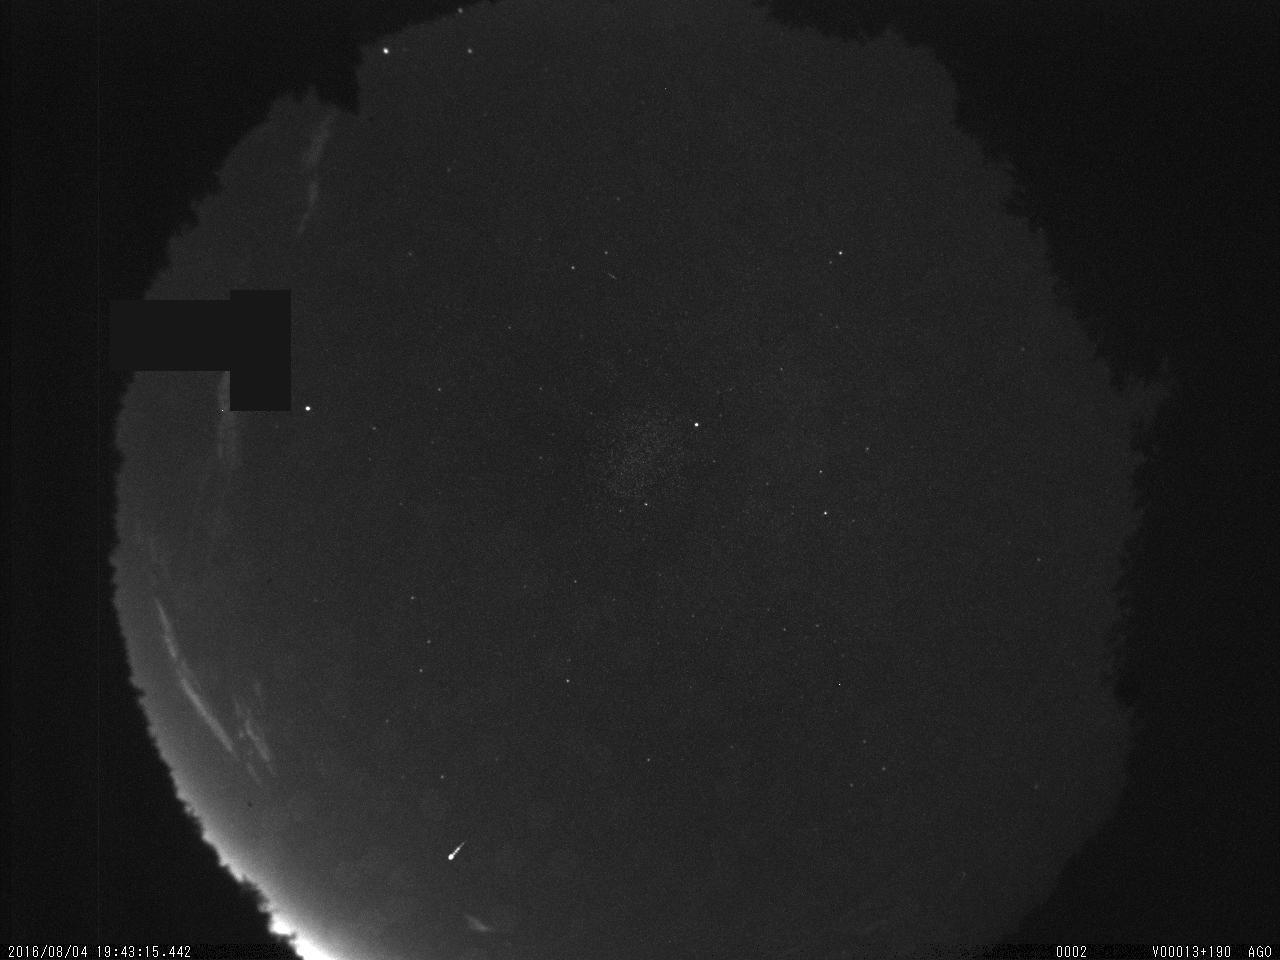Meteor: (445, 838, 466, 862)
